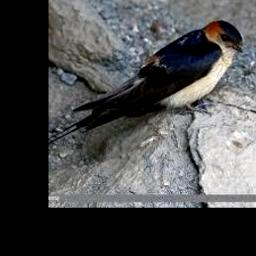Swallow: (48, 21, 243, 144)
